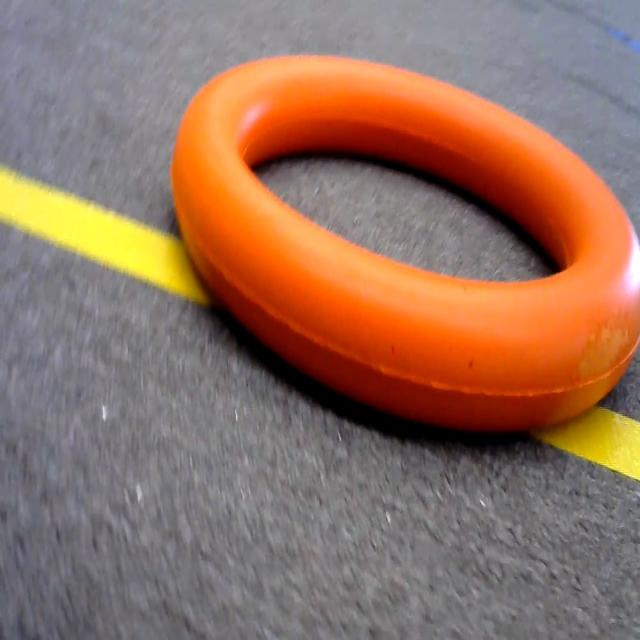note: (167, 48, 640, 442)
